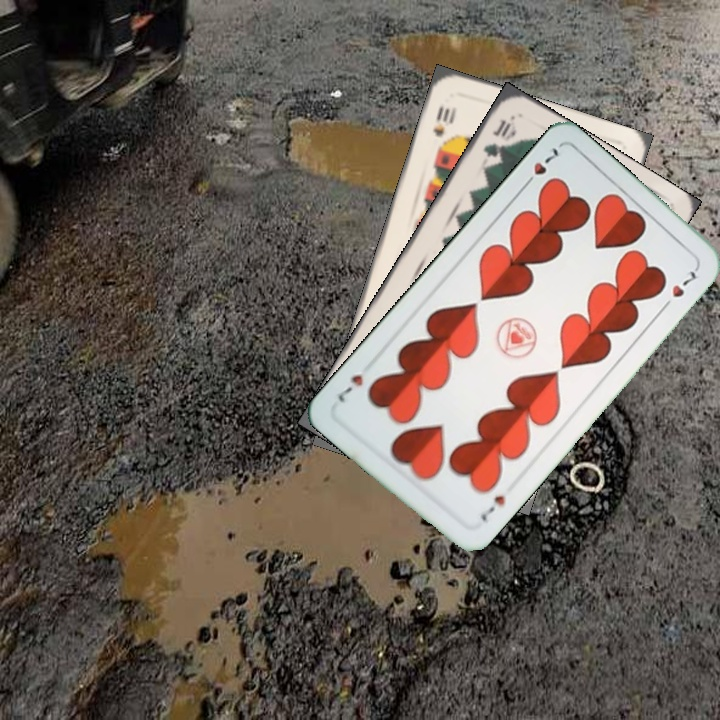G10: (478, 115, 516, 160)
H7: (518, 143, 561, 191), (475, 491, 508, 524)
S10: (428, 102, 458, 139)
